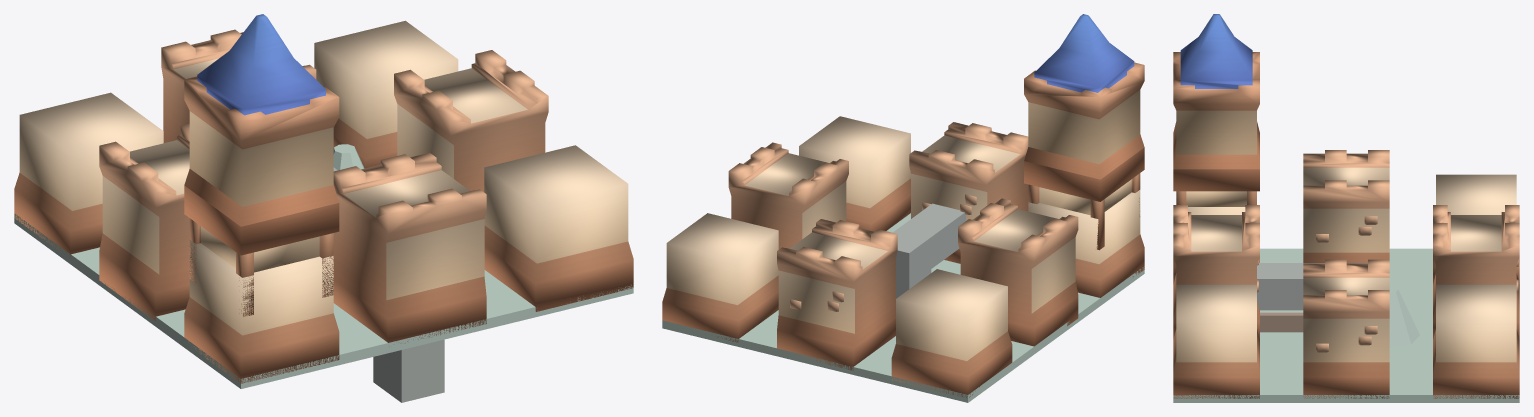
Rendered from hillfort.glb.
The picture shows the model from 3 angles, left to right: view 1: azimuth 30°, elevation 25°; view 2: azimuth 150°, elevation 25°; view 3: azimuth 270°, elevation 25°; orthographic projection. The views are drawn at different scales.
Parts seen in each view (by area): view 1: tower-square-roof, wall.004, tower-square-base.001, tower-square-base, wall.002, wall.001, tower-square-base.003, tower-square-base.002, ground-grass.003, tower-square-mid, wall.003, wall-gate (+5 smaller); view 2: tower-square-roof, wall.003, tower-square-base.003, wall.001, tower-square-base.002, wall.004, wall.002, tower-square-base.001, tower-square-base, wall-gate, ground-grass.002, tower-square-mid (+4 smaller); view 3: tower-square-roof, wall.002, tower-square-base.001, tower-square-base.002, wall.001, wall.003, wall.004, ground-grass.007, ground-grass.006, tower-square-base.003, wall-gate, ground-grass.008 (+6 smaller).
Part boxes in pixels (x1,y1,x2,y2): tower-square-roof: (184,14,339,255); wall.004: (333,152,486,343); tower-square-base.001: (484,145,633,311); tower-square-base: (184,240,339,383); wall.002: (394,50,548,191); wall.001: (99,123,189,321); tower-square-base.003: (14,92,163,257); tower-square-base.002: (314,20,458,168); ground-grass.003: (333,270,535,364); tower-square-mid: (189,218,333,316); wall.003: (161,29,316,142); wall-gate: (333,167,444,402); tower-square-roof: (1024,14,1144,201); wall.003: (777,219,897,370); tower-square-base.003: (891,269,1012,397); wall.001: (958,198,1078,346); tower-square-base.002: (662,213,778,342); wall.004: (909,122,1028,263); wall.002: (728,142,848,249); tower-square-base.001: (799,116,910,231); tower-square-base: (1028,190,1144,297); wall-gate: (893,203,965,298); ground-grass.002: (815,331,1056,402); tower-square-mid: (1028,173,1140,250); tower-square-roof: (1173,14,1259,191); wall.002: (1303,259,1389,398); tower-square-base.001: (1173,284,1259,398); tower-square-base.002: (1433,284,1519,398); wall.001: (1303,150,1389,262); wall.003: (1433,205,1519,339); wall.004: (1173,205,1259,339); ground-grass.007: (1260,322,1432,402); ground-grass.006: (1173,332,1346,402); tower-square-base.003: (1433,174,1519,284); wall-gate: (1257,263,1367,332); ground-grass.008: (1347,322,1519,402).
Size of the model in its own units: 8 by 7.92 by 8.
Materials: 13 (10 with a texture image).
